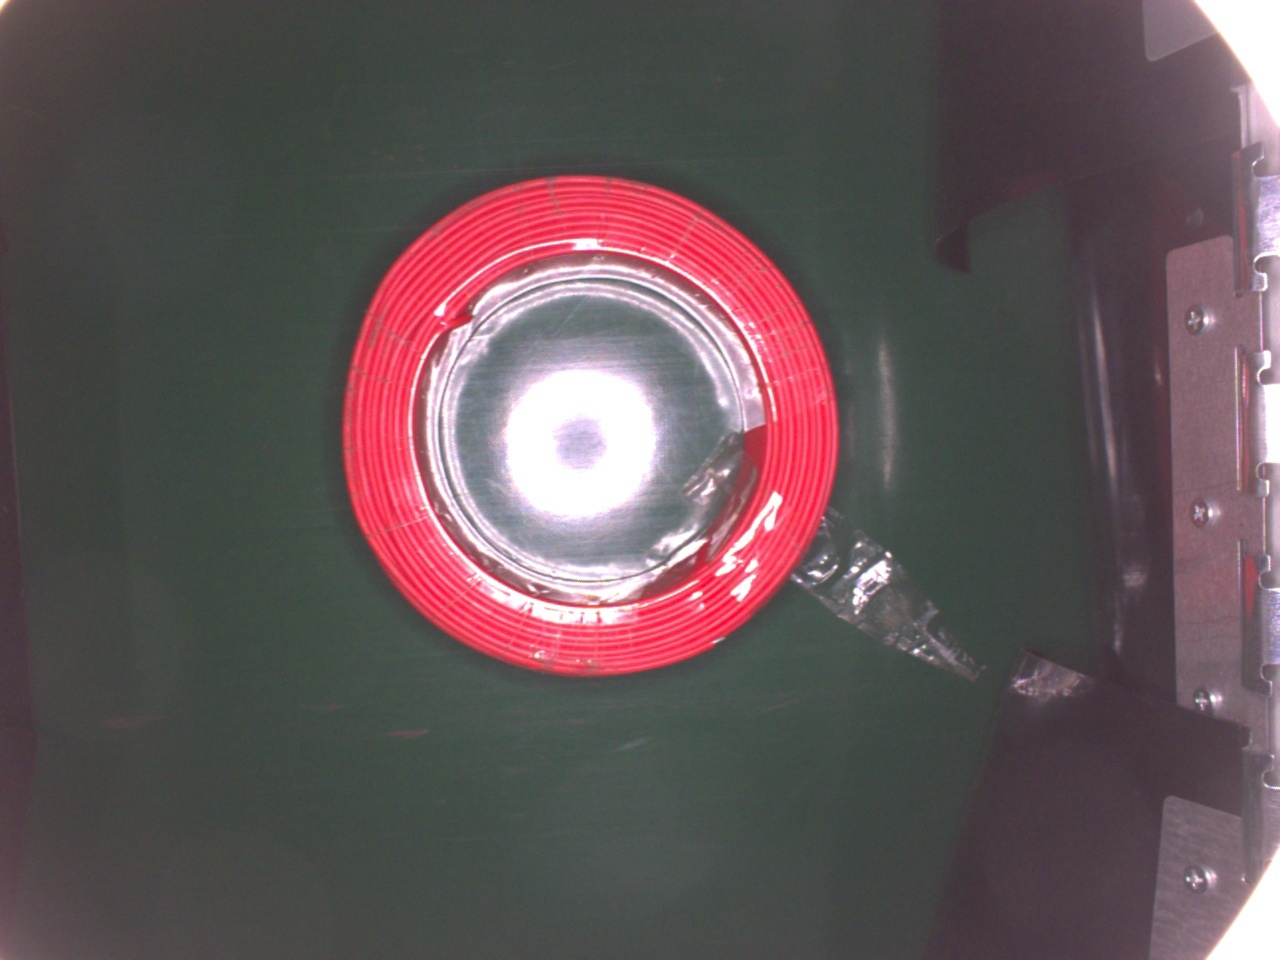red: (340, 162, 862, 678)
